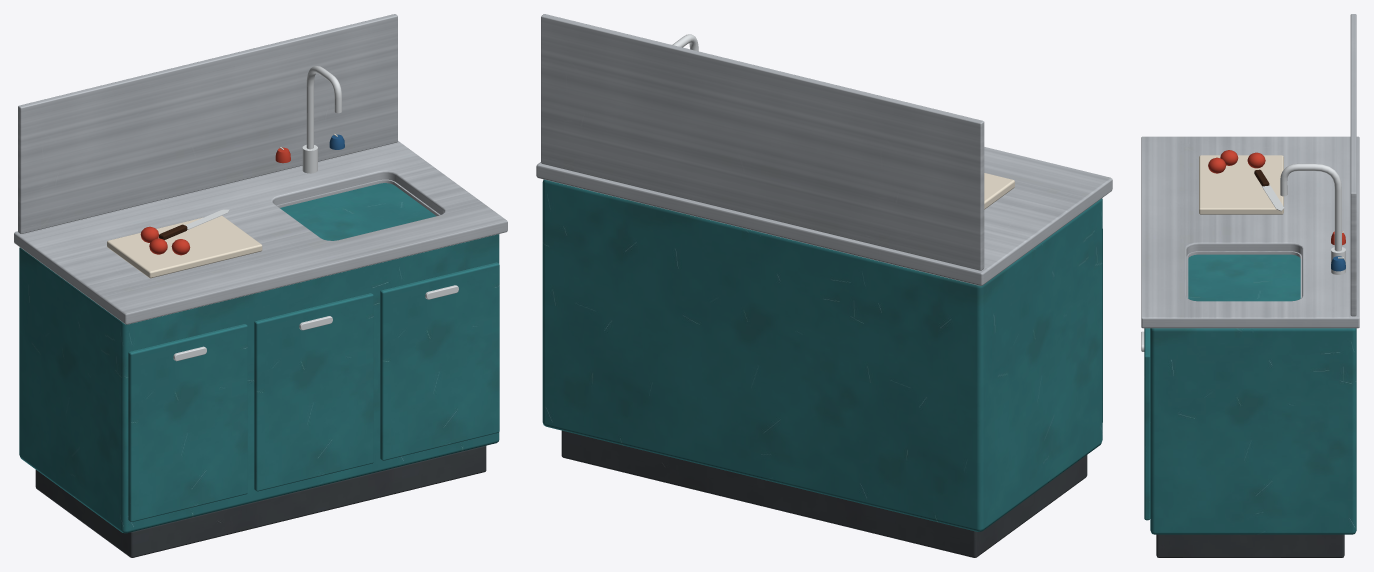
Rendered from PrepCounter.glb.
3 views of the same model, side by side, from view 1: azimuth 30°, elevation 25°; view 2: azimuth 150°, elevation 25°; view 3: azimuth 270°, elevation 25° (orthographic). The views are drawn at different scales.
Visible parts, largest first — view 1: PrepCounter_Body; view 2: PrepCounter_Body; view 3: PrepCounter_Body, PrepCounter_Knife.
Boxes of the visible parts, bbox=[...] form: PrepCounter_Body: bbox=[14, 14, 507, 557]; PrepCounter_Body: bbox=[536, 14, 1112, 557]; PrepCounter_Body: bbox=[1141, 14, 1359, 557]; PrepCounter_Knife: bbox=[1254, 169, 1284, 211].
Size of the model in its own units: 1.42 by 1.35 by 0.72.
Materials: 9 (4 with a texture image).
